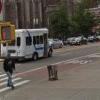Car: (50, 35, 82, 50)
